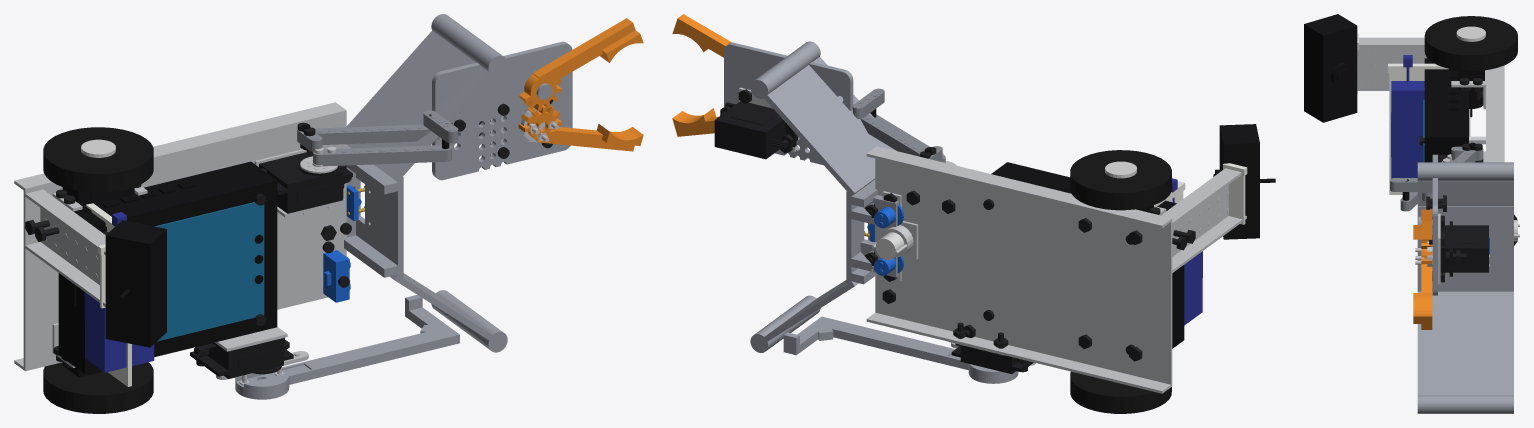
File: robot_b.obj
3 views of the same model, side by side, from view 1: azimuth 30°, elevation 25°; view 2: azimuth 150°, elevation 25°; view 3: azimuth 270°, elevation 25° (orthographic). The views are drawn at different scales.
Visible parts, largest first — view 1: 06.1|Pocket_plow_(print_3), 01.1|Chassis, 03.2|Wombat, 03.2|Wombat_(screen), 05.1|Geared_claw_(print_2), 08.2|Black_Camera, 02.4|Solarbotics_Wheel, 07.4|Cup_hook_(print_4), 08.1|Channel_3_x_8, 02.5|Solarbotics_Wheel, 05.1|Geared_claw_(print_2)_(finger_L), 04.2|Servo (+11 smaller); view 2: 01.1|Chassis, 06.1|Pocket_plow_(print_3), 02.4|Solarbotics_Wheel, 07.4|Cup_hook_(print_4), 08.1|Channel_3_x_8, 05.1|Geared_claw_(print_2), 01.1|Chassis_(flange), 05.2|Servo, 01.1|Chassis_(flange).001, 08.2|Black_Camera, 02.5|Solarbotics_Wheel, 03.2|Wombat (+9 smaller); view 3: 06.1|Pocket_plow_(print_3), 08.2|Black_Camera, 02.4|Solarbotics_Wheel, 03.2|Wombat, 03.3|Wombat_Battery, 08.1|Channel_3_x_8, 05.2|Servo, 01.1|Chassis_(flange).001, 05.1|Geared_claw_(print_2)_(finger_R), 03.3|Zip_tie, 05.1|Geared_claw_(print_2), 05.1|Geared_claw_(print_2)_(finger_L) (+8 smaller).
Boxes of the visible parts, x1,y1,x2,y2 form: 06.1|Pocket_plow_(print_3): [344, 14, 507, 352]; 01.1|Chassis: [23, 109, 346, 371]; 03.2|Wombat: [58, 161, 277, 373]; 03.2|Wombat_(screen): [154, 202, 264, 341]; 05.1|Geared_claw_(print_2): [432, 41, 572, 180]; 08.2|Black_Camera: [105, 220, 166, 347]; 02.4|Solarbotics_Wheel: [43, 127, 153, 192]; 07.4|Cup_hook_(print_4): [235, 295, 459, 399]; 08.1|Channel_3_x_8: [25, 189, 105, 306]; 02.5|Solarbotics_Wheel: [43, 362, 153, 413]; 05.1|Geared_claw_(print_2)_(finger_L): [519, 18, 643, 110]; 04.2|Servo: [259, 152, 352, 213]; 01.1|Chassis: [875, 146, 1172, 386]; 06.1|Pocket_plow_(print_3): [750, 41, 898, 352]; 02.4|Solarbotics_Wheel: [1070, 150, 1171, 210]; 07.4|Cup_hook_(print_4): [783, 316, 1018, 383]; 08.1|Channel_3_x_8: [1161, 168, 1246, 272]; 05.1|Geared_claw_(print_2): [724, 42, 853, 165]; 01.1|Chassis_(flange): [866, 312, 1170, 393]; 05.2|Servo: [714, 101, 796, 159]; 01.1|Chassis_(flange).001: [866, 147, 1170, 228]; 08.2|Black_Camera: [1213, 124, 1275, 239]; 02.5|Solarbotics_Wheel: [1070, 371, 1171, 413]; 03.2|Wombat: [991, 162, 1184, 348]; 06.1|Pocket_plow_(print_3): [1417, 162, 1513, 413]; 08.2|Black_Camera: [1304, 14, 1357, 122]; 02.4|Solarbotics_Wheel: [1424, 16, 1517, 71]; 03.2|Wombat: [1424, 58, 1468, 162]; 03.3|Wombat_Battery: [1391, 55, 1424, 178]; 08.1|Channel_3_x_8: [1357, 37, 1427, 90]; 05.2|Servo: [1440, 221, 1488, 276]; 01.1|Chassis_(flange).001: [1488, 65, 1504, 162]; 05.1|Geared_claw_(print_2)_(finger_R): [1413, 241, 1432, 329]; 03.3|Zip_tie: [1388, 63, 1470, 194]; 05.1|Geared_claw_(print_2): [1418, 154, 1437, 295]; 05.1|Geared_claw_(print_2)_(finger_L): [1413, 209, 1432, 241].
Bounding box in the file's own units: 426 × 206 × 161.
